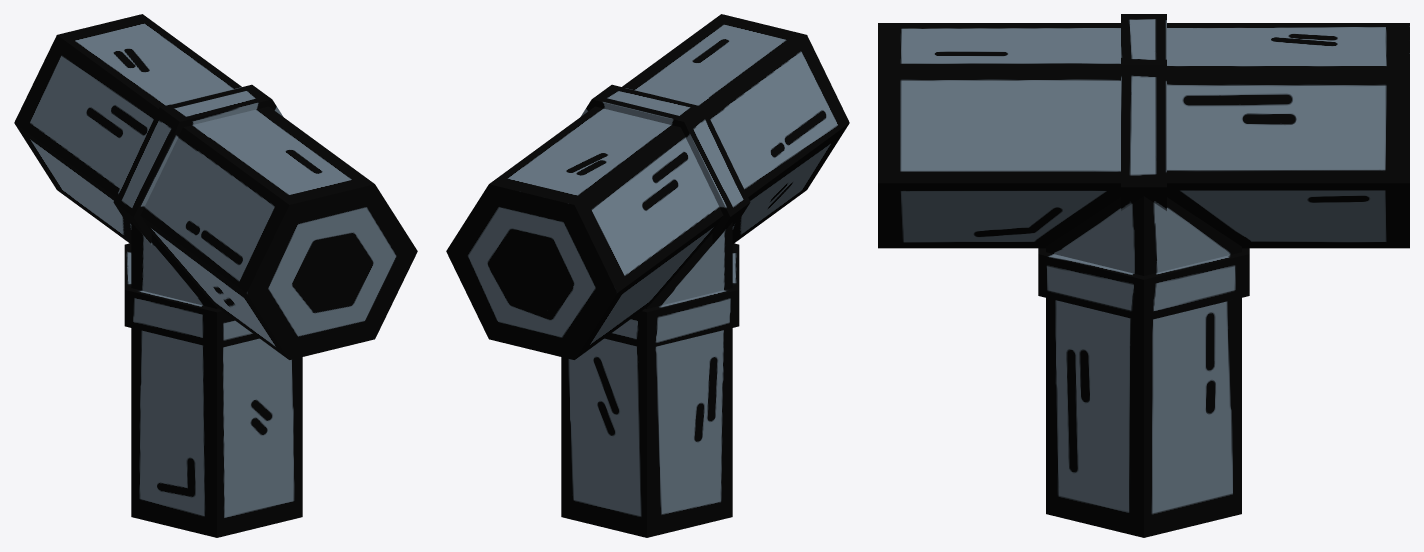
The model's file is T_Guttter.fbx.
The picture shows the model from 3 angles, left to right: view 1: azimuth 30°, elevation 25°; view 2: azimuth 150°, elevation 25°; view 3: azimuth 270°, elevation 25°; orthographic projection. The views are drawn at different scales.
Visible parts, largest first — view 1: T_Guttter; view 2: T_Guttter; view 3: T_Guttter.
Boxes of the visible parts, x1,y1,x2,y2 form: T_Guttter: [14, 14, 417, 537]; T_Guttter: [446, 14, 849, 537]; T_Guttter: [878, 14, 1409, 537].
Size of the model in its own units: 127 by 256 by 275.
